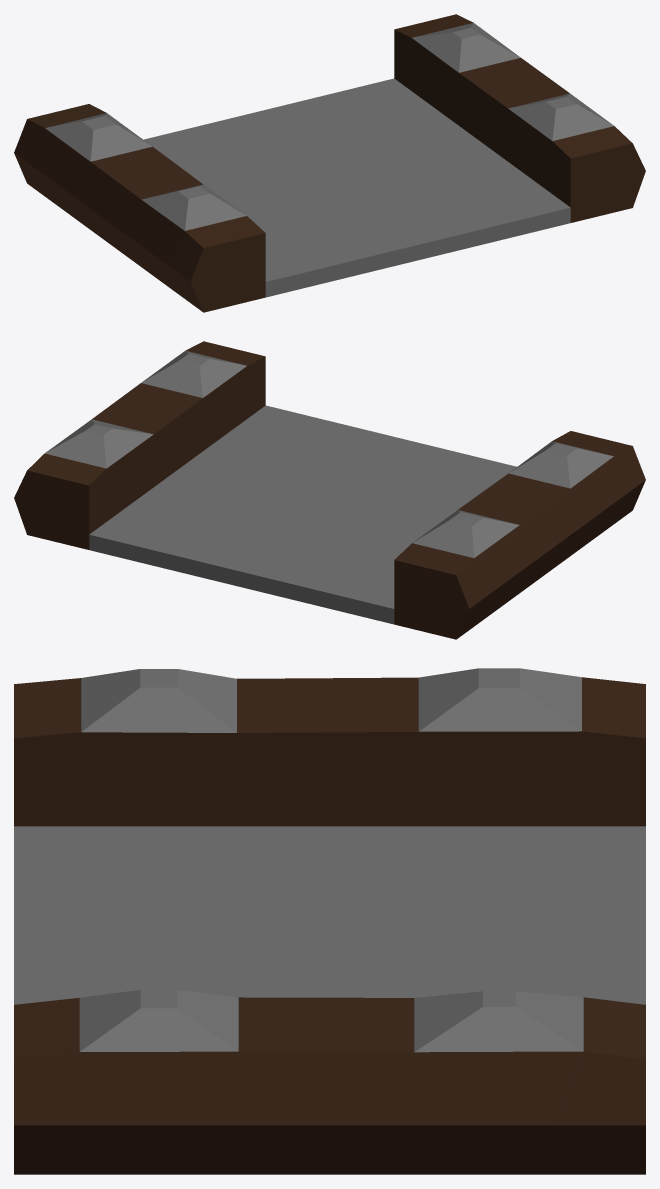
File: bridge.fbx
3 views of the same model, one above another, from view 1: azimuth 30°, elevation 25°; view 2: azimuth 150°, elevation 25°; view 3: azimuth 270°, elevation 25° (orthographic). The views are drawn at different scales.
Parts seen in each view (by area): view 1: Bridge; view 2: Bridge; view 3: Bridge.
Boxes of the visible parts, x1,y1,x2,y2 form: Bridge: (14,14,645,312); Bridge: (14,341,645,639); Bridge: (14,668,645,1174).
Size of the model in its own units: 298 by 51.85 by 200.
